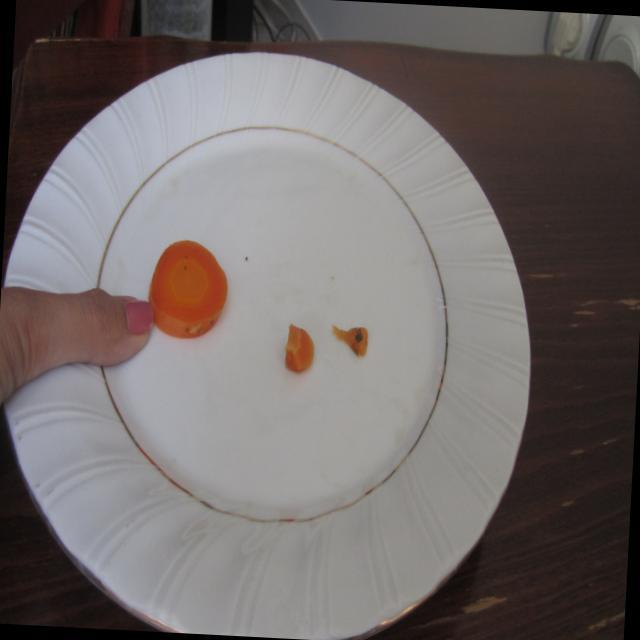Carrot: (143, 231, 234, 354)
Finger: (70, 284, 158, 380)
